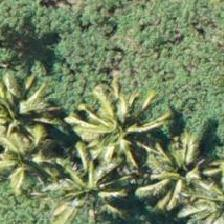coconut_tree: (77, 90, 167, 180), (131, 136, 221, 223), (0, 119, 72, 209), (39, 151, 129, 223), (0, 67, 53, 157)
